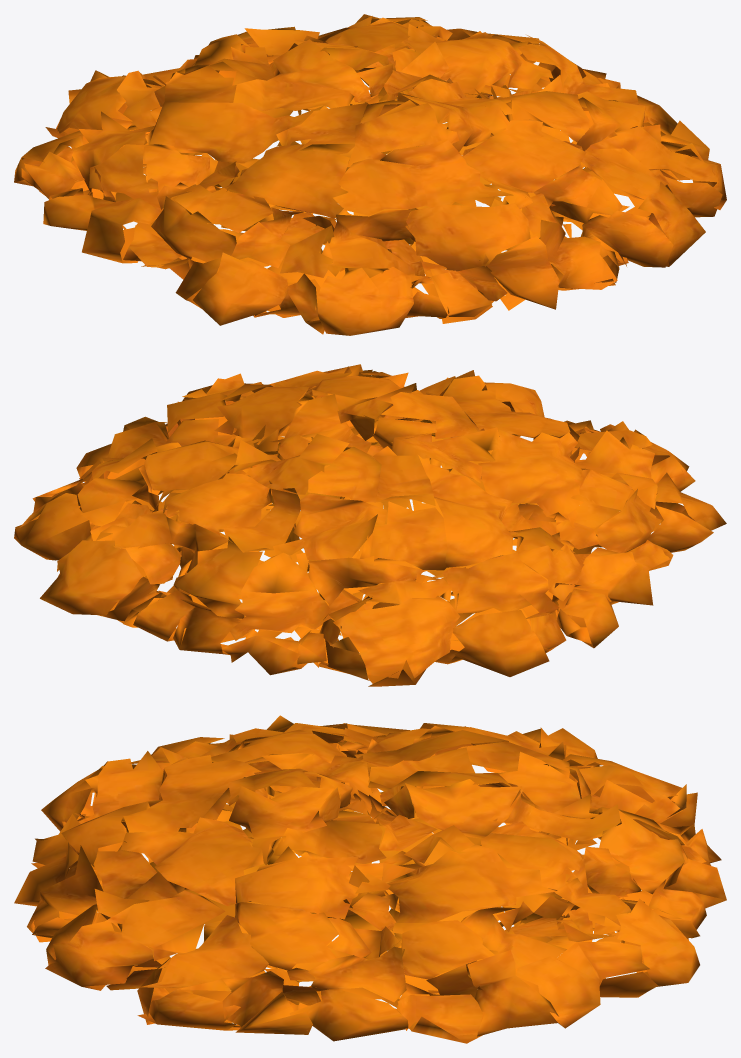
The model's file is marigold_pile.glb.
The picture shows the model from 3 angles, top to bottom: view 1: azimuth 30°, elevation 25°; view 2: azimuth 150°, elevation 25°; view 3: azimuth 270°, elevation 25°; orthographic projection. The views are drawn at different scales.
Visible parts, largest first — view 1: marigold_pile; view 2: marigold_pile; view 3: marigold_pile.
Boxes of the visible parts, left/top/right/bottom form: marigold_pile: left=14, top=14, right=726, bottom=335; marigold_pile: left=14, top=364, right=726, bottom=686; marigold_pile: left=14, top=715, right=726, bottom=1043.
Bounding box in the file's own units: 0.901 × 0.1886 × 0.9023.
Materials: 1 (1 with a texture image).
